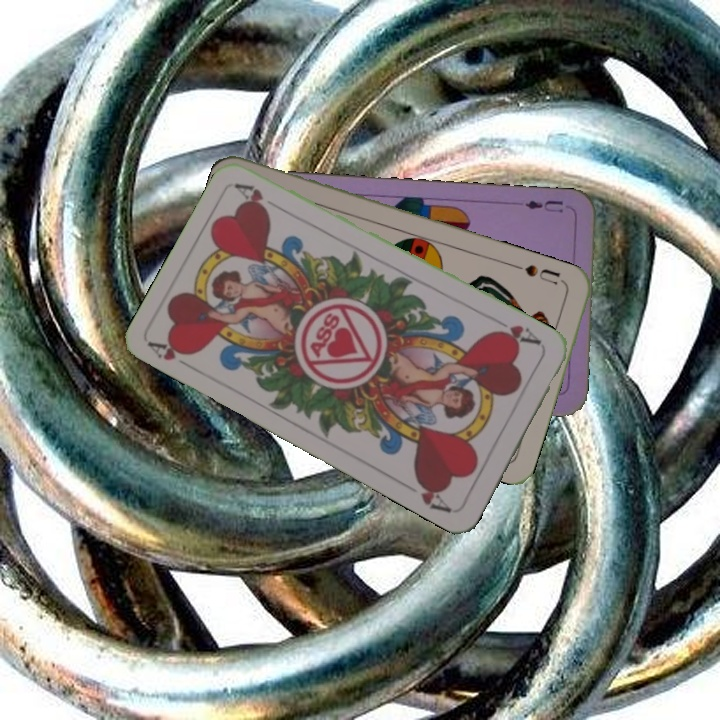EU: (521, 196, 566, 216)
HA: (146, 335, 201, 374), (488, 315, 545, 350)
SU: (521, 260, 568, 288)
